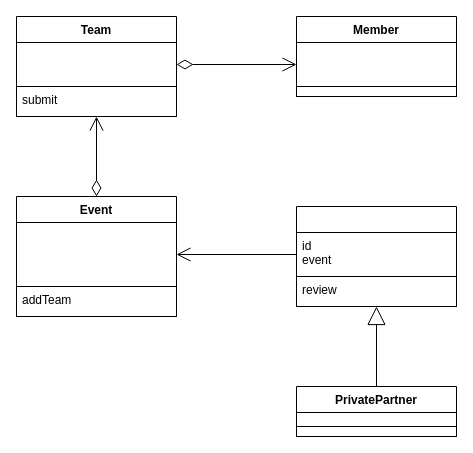
Some shapes in this 473 by 453 pixel diagram are drawn without their labels. Here are the shapes that lost their labels. From the top down, the box of each, then its label:
(16, 42, 176, 86): name members
(296, 42, 456, 86): login name
(16, 222, 176, 286): name date teams
(296, 206, 456, 306): Partner
